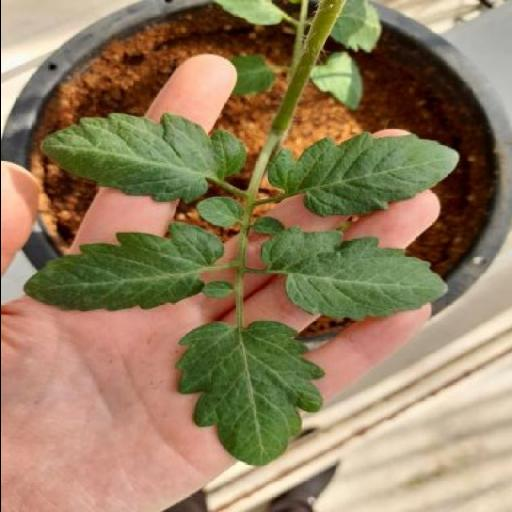Healthy: (174, 320, 322, 465), (40, 114, 244, 204), (24, 222, 223, 312), (260, 226, 446, 320), (266, 132, 458, 216)
